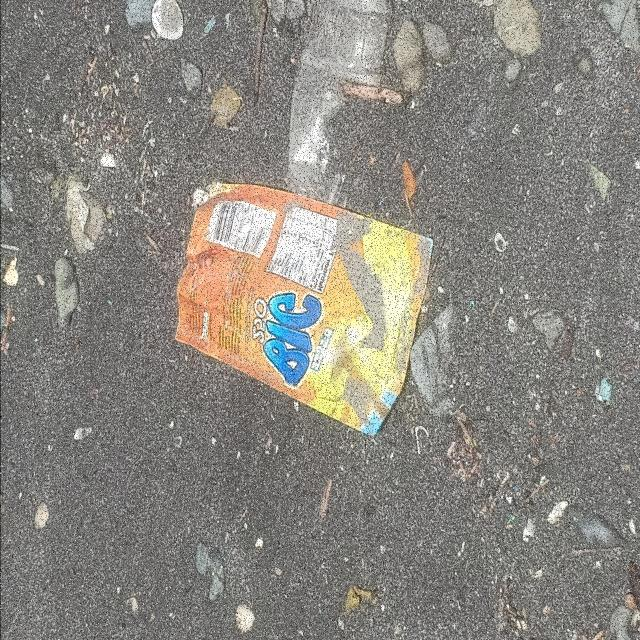plastic_waste: (174, 180, 435, 442)
